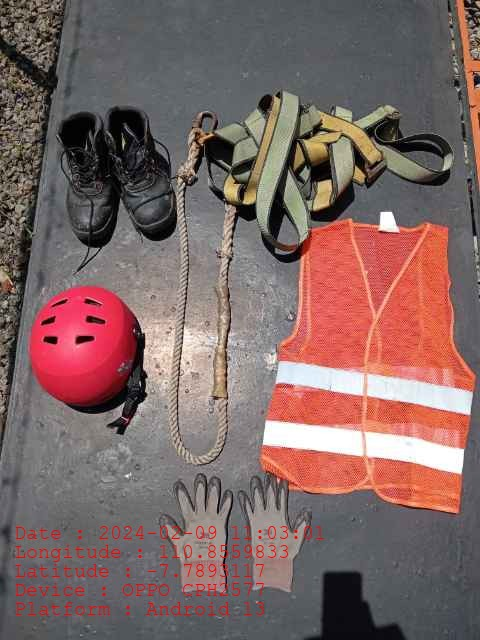HELM: (29, 285, 138, 409)
ROMPI: (271, 219, 472, 498)
SEPATU: (57, 106, 175, 244)
TAMBANG_SLING: (166, 106, 237, 467)
